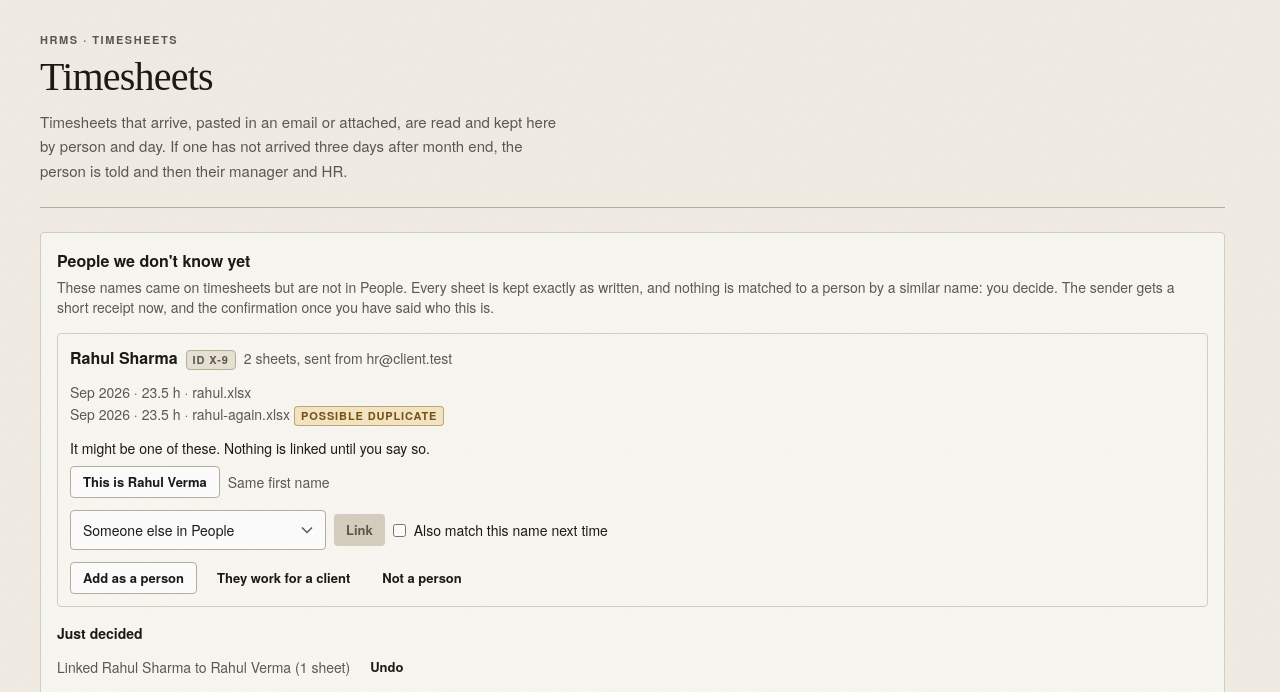
Scenario: People we don't know yet › asks before linking several sheets from a weak suggestion, then links without remembering the name
The width and height of the screenshot is (1280, 692).
Click the button with aria-label "This is Rahul Verma: link Rahul Sharma's 2 sheets" at (145, 482), box [70,466,220,498]
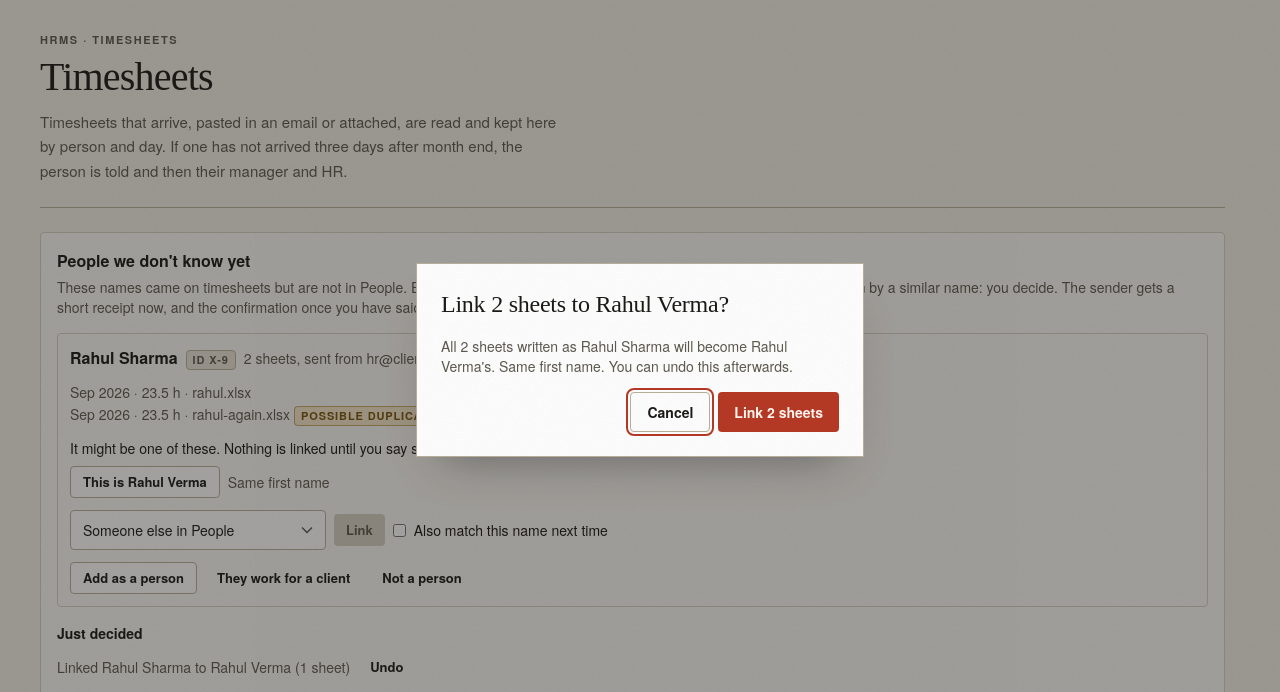
Result: the text "All 2 sheets written as Rahul Sharma will become Rahul Verma's" is shown at [441,336,839,376]
Click the button "Link 2 sheets" at (779, 412), box [718,392,839,432]
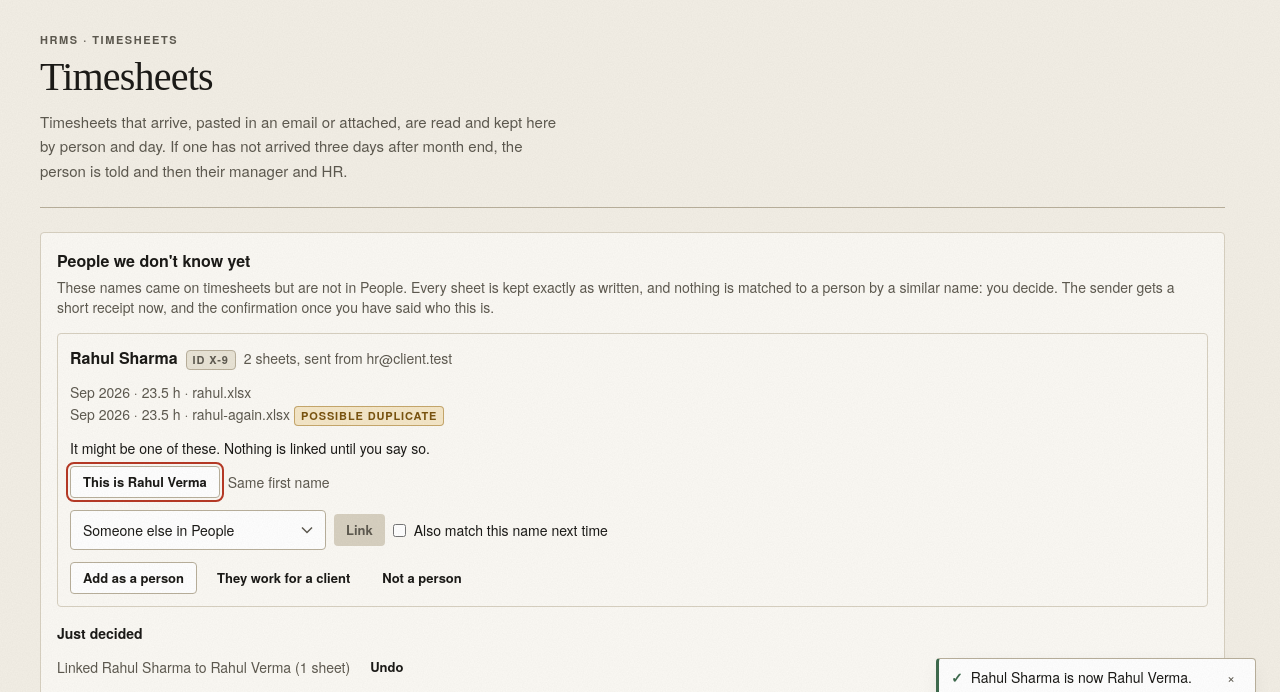
Result: the text "Rahul Sharma is now Rahul Verma." is shown at [971,667,1211,687]
